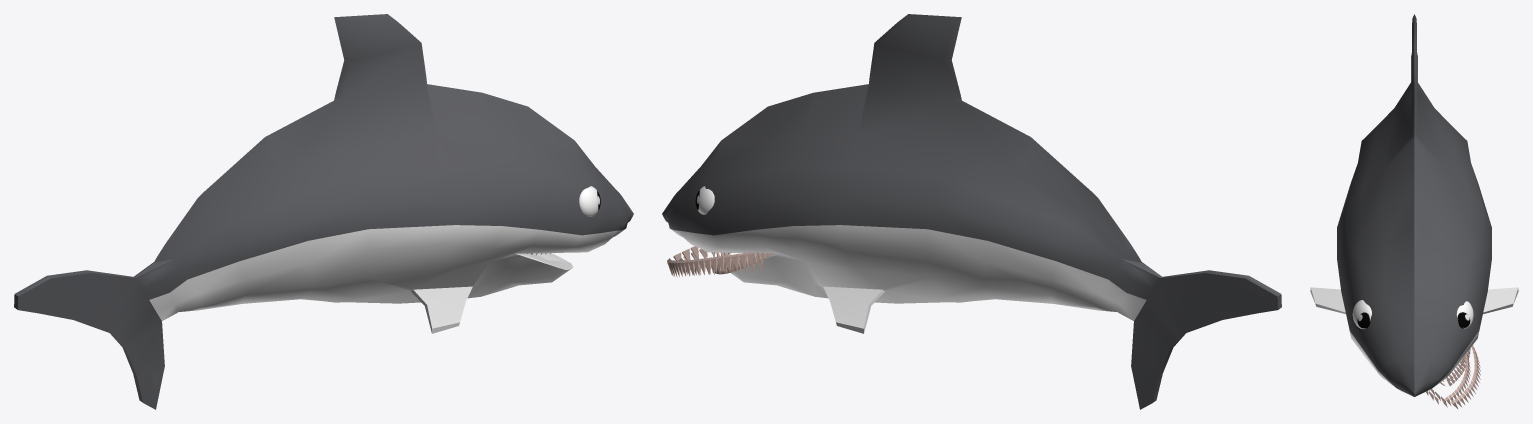
The model's file is shark.FBX.
3 renders of one model, left to right at view 1: azimuth 30°, elevation 25°; view 2: azimuth 150°, elevation 25°; view 3: azimuth 270°, elevation 25°, orthographic. The views are drawn at different scales.
Visible parts, largest first — view 1: Box001; view 2: Box001; view 3: Box001, Sphere002, Sphere001.
Part boxes in pixels (x1,y1,x2,y2): Box001: [14, 14, 633, 409]; Box001: [662, 14, 1281, 409]; Box001: [1310, 14, 1518, 396]; Sphere002: [1352, 300, 1372, 329]; Sphere001: [1456, 301, 1473, 328].
Size of the model in its own units: 434 by 233 by 139.
Materials: 3 (2 with a texture image).
